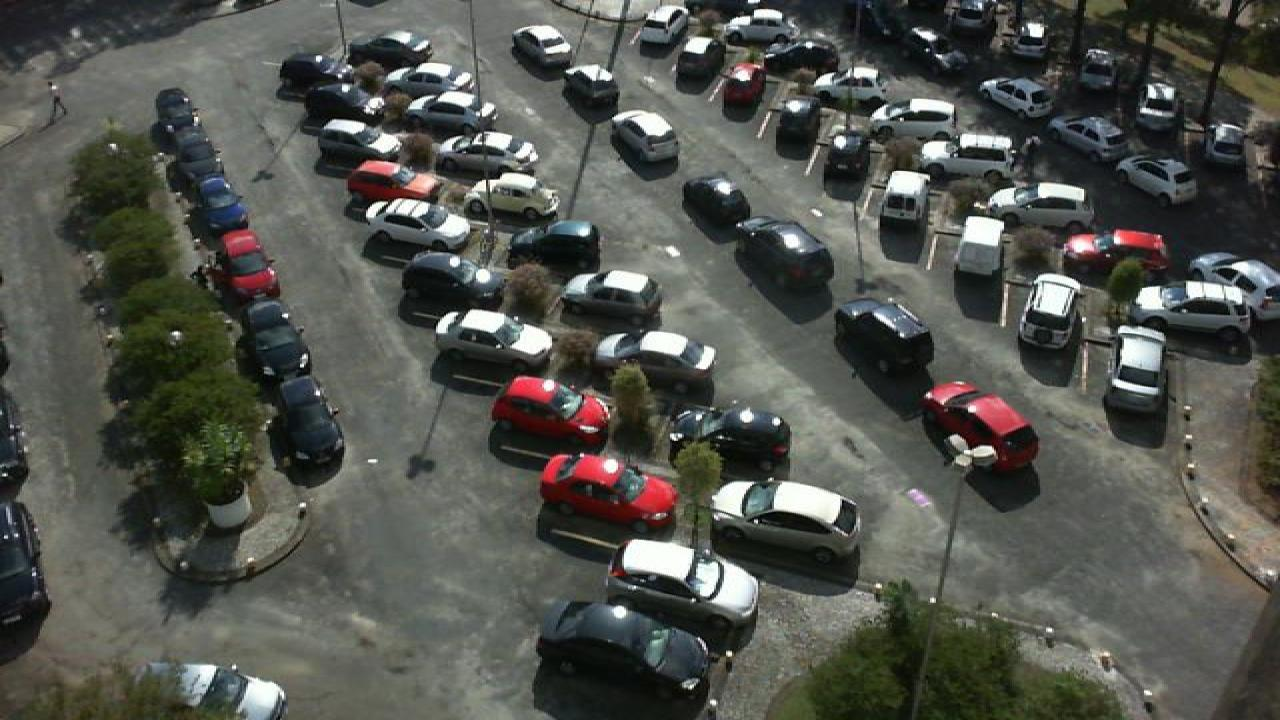Car: (532, 600, 710, 698), (606, 538, 760, 632), (710, 478, 866, 562), (922, 380, 1040, 469), (538, 452, 678, 526), (130, 661, 290, 720), (834, 297, 936, 378), (666, 407, 792, 472), (592, 330, 718, 392), (490, 376, 610, 440), (736, 216, 834, 291), (432, 308, 554, 368), (270, 393, 346, 477), (1130, 279, 1254, 329), (398, 251, 506, 308), (1104, 325, 1170, 413), (366, 197, 472, 250), (564, 270, 664, 325), (236, 300, 310, 374), (1018, 272, 1088, 349), (986, 180, 1096, 227), (1194, 255, 1280, 313), (506, 219, 604, 269), (1062, 228, 1170, 272), (434, 130, 540, 174), (462, 173, 560, 219), (346, 158, 448, 202), (1112, 155, 1198, 206), (916, 133, 1010, 179), (222, 228, 282, 300), (1044, 112, 1132, 161), (952, 215, 1008, 290), (680, 173, 750, 232), (258, 356, 322, 417), (318, 119, 404, 163), (612, 110, 682, 164), (406, 90, 500, 129), (868, 98, 960, 137), (878, 171, 932, 234), (344, 30, 436, 66), (978, 77, 1054, 117), (510, 24, 576, 70), (152, 89, 208, 141), (196, 176, 250, 229), (904, 26, 968, 70), (174, 134, 232, 182), (386, 62, 478, 92), (562, 64, 622, 110), (276, 53, 350, 90), (296, 86, 368, 124), (810, 66, 886, 102), (822, 130, 872, 184), (774, 98, 824, 150), (724, 6, 796, 42), (762, 40, 838, 74), (1192, 90, 1246, 137), (674, 35, 726, 79), (636, 4, 688, 47), (722, 62, 768, 109), (1134, 80, 1178, 126), (1076, 47, 1120, 90), (1016, 21, 1050, 57), (946, 0, 988, 29)
